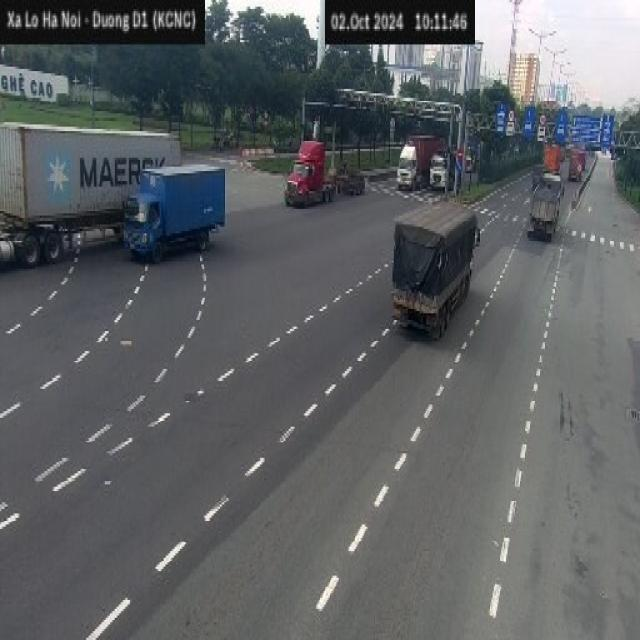container-truck: (0, 120, 181, 267), (280, 128, 367, 208)
truck: (390, 198, 480, 338), (123, 162, 225, 262)
